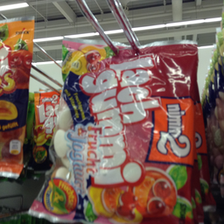candy: (48, 39, 199, 223)
